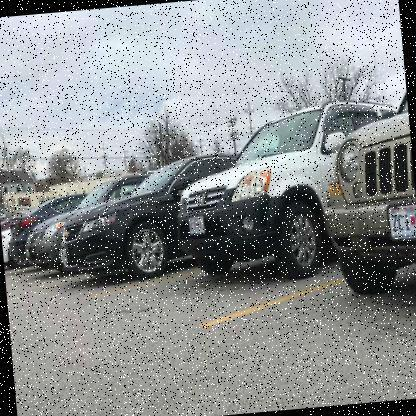License-Plate: (385, 201, 415, 245), (187, 215, 207, 237)
